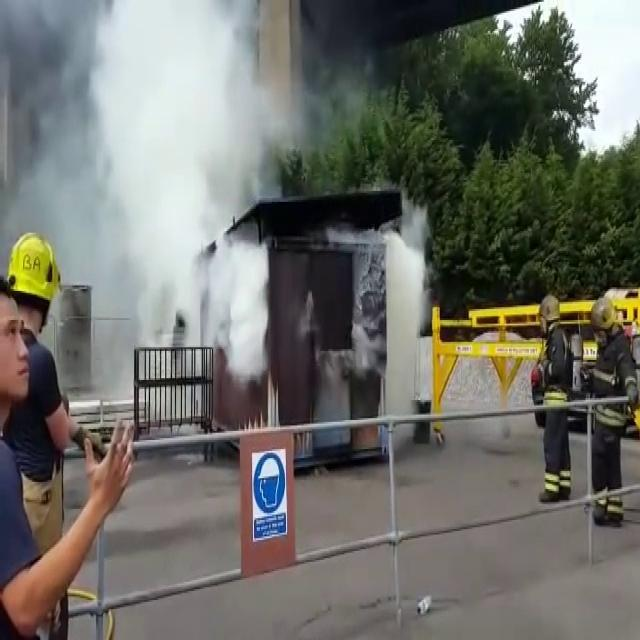Smoke: (128, 14, 284, 383), (380, 222, 406, 392)
